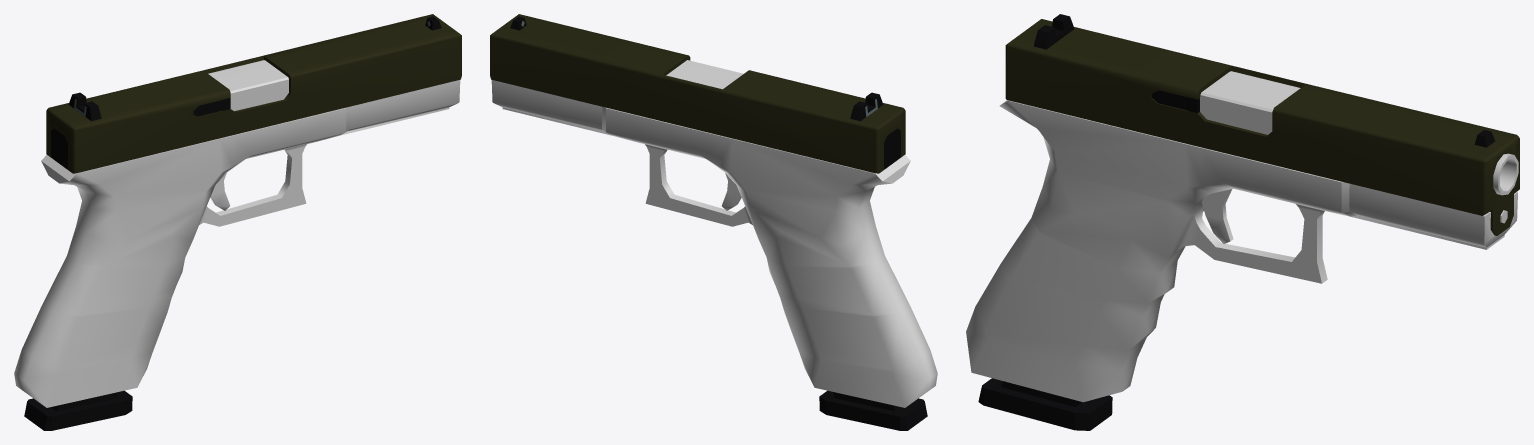
File: nerf_pistol_prop.fbx
3 renders of one model, left to right at view 1: azimuth 30°, elevation 25°; view 2: azimuth 150°, elevation 25°; view 3: azimuth 330°, elevation 25°, orthographic. The views are drawn at different scales.
Visible parts, largest first — view 1: nerf_pistol, slide, pCube15, polySurface7; view 2: nerf_pistol, slide, pCube15, polySurface7; view 3: nerf_pistol, slide, polySurface7, pCube15, trigger.
Boxes of the visible parts, bbox=[...] form: nerf_pistol: bbox=[14, 28, 460, 407]; slide: bbox=[46, 14, 461, 173]; pCube15: bbox=[24, 390, 132, 430]; polySurface7: bbox=[208, 60, 288, 111]; nerf_pistol: bbox=[491, 28, 937, 407]; slide: bbox=[490, 14, 905, 173]; pCube15: bbox=[819, 390, 927, 430]; polySurface7: bbox=[666, 60, 743, 89]; nerf_pistol: bbox=[966, 100, 1518, 402]; slide: bbox=[1005, 14, 1519, 235]; polySurface7: bbox=[1200, 71, 1300, 134]; pCube15: bbox=[978, 378, 1112, 430]; trigger: bbox=[1201, 189, 1233, 243].
Bounding box in the file's own units: 11.87 × 8.22 × 1.39.
